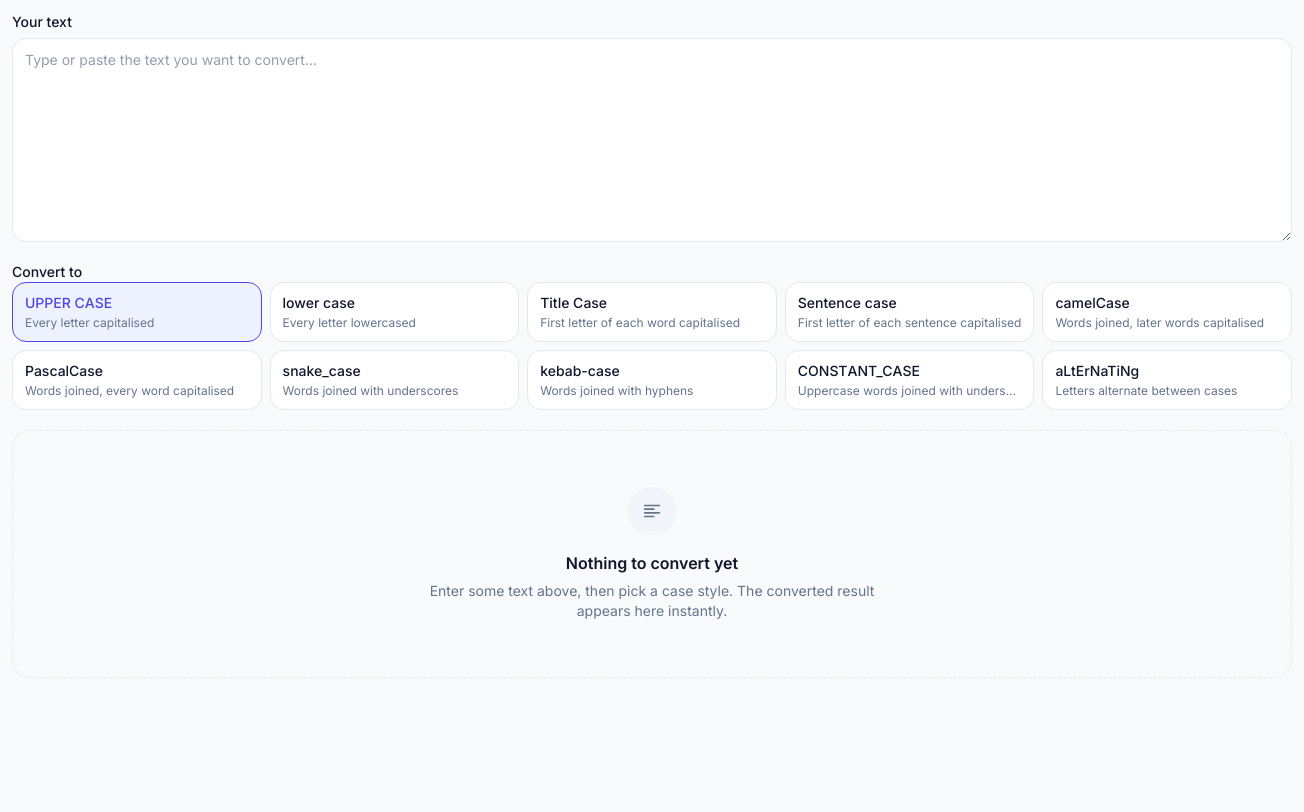
Test: CaseConverterTool › re-converts when a different style is selected
The image size is (1304, 812).
Type "Hello World" into the text box labelled "Your text" at (652, 140), box [12,38,1292,242]
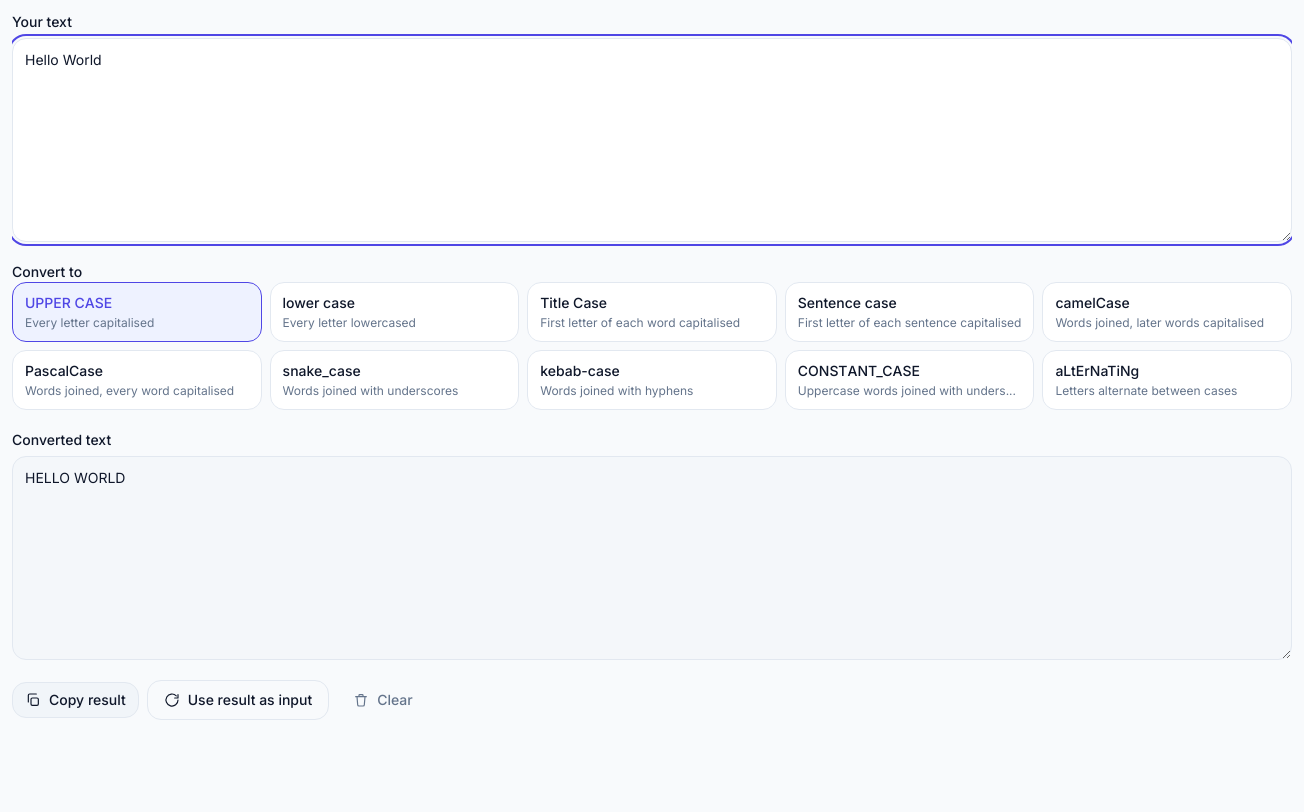
Click the button "snake_case Words joined with underscores" at (394, 380), box [270,350,519,410]
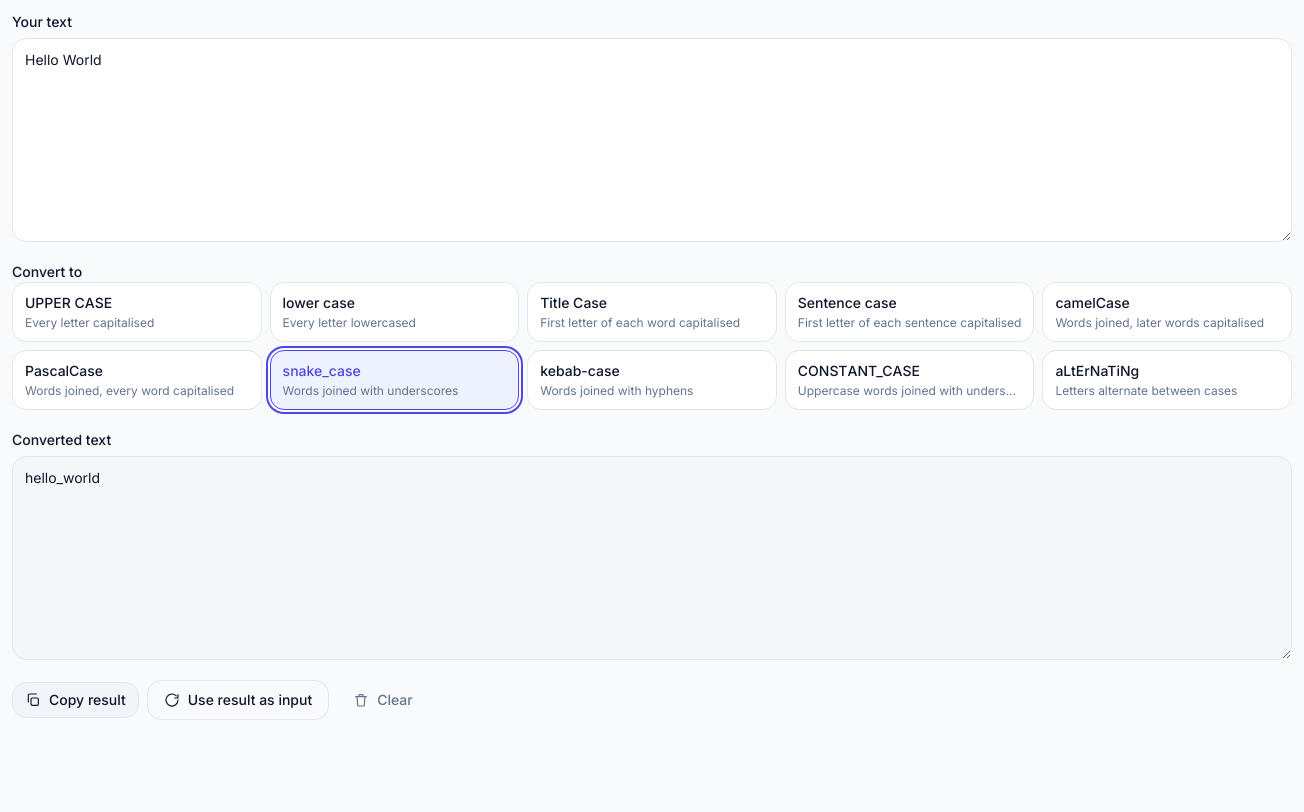
Now the text box labelled "Converted text" holds "hello_world", box [12,456,1292,660]
